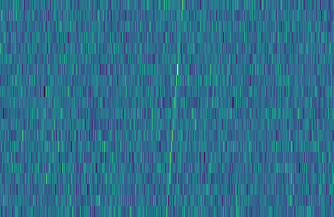signal: (162, 0, 187, 217)
